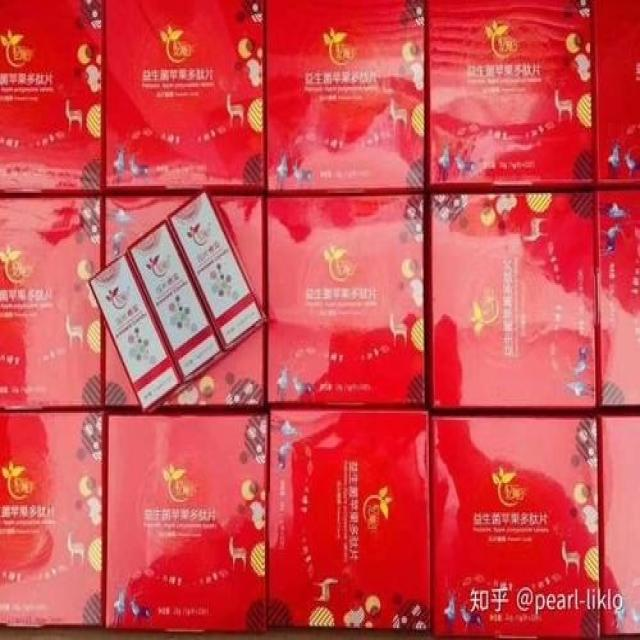box: (431, 412, 602, 638), (422, 191, 596, 410), (267, 406, 430, 631), (105, 409, 267, 634), (263, 193, 426, 409), (425, 2, 598, 192), (264, 2, 425, 195), (107, 1, 265, 194), (0, 412, 105, 626), (0, 196, 104, 411), (0, 1, 108, 196), (597, 189, 639, 412), (597, 412, 639, 635), (592, 1, 639, 191), (160, 323, 265, 406), (102, 196, 198, 268), (211, 195, 263, 312), (103, 324, 141, 409)
